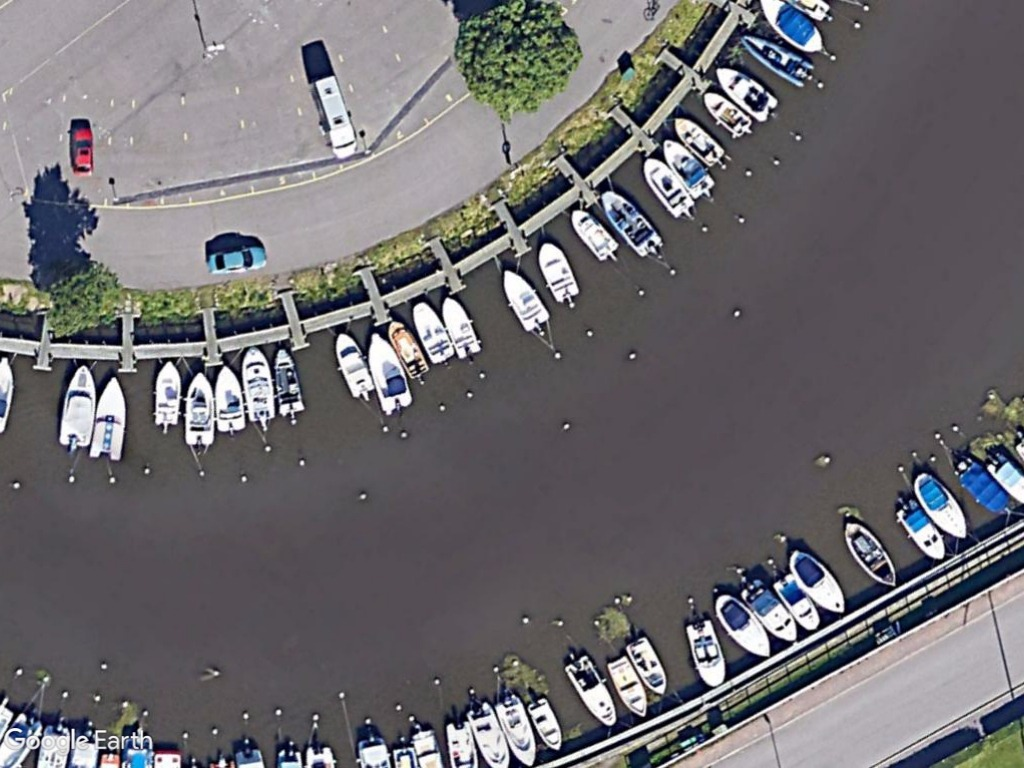boat: (594, 180, 665, 256), (737, 28, 817, 94), (560, 648, 620, 729), (910, 464, 972, 542), (784, 545, 849, 619), (710, 592, 776, 663), (51, 359, 100, 454), (360, 325, 412, 414), (82, 370, 131, 462), (840, 516, 899, 591), (736, 577, 801, 644), (710, 64, 780, 126), (635, 150, 693, 224), (495, 264, 553, 336), (950, 456, 1014, 521), (678, 612, 729, 692), (891, 495, 949, 562), (659, 132, 718, 197), (768, 569, 824, 636), (493, 691, 539, 768), (405, 293, 454, 364), (667, 112, 728, 168), (330, 326, 375, 399), (463, 700, 511, 768), (604, 652, 651, 721), (535, 238, 582, 306), (180, 370, 218, 454), (622, 633, 670, 699), (239, 343, 278, 423), (437, 291, 482, 360), (567, 205, 619, 263), (149, 356, 187, 435), (383, 315, 429, 379), (268, 342, 305, 420), (208, 363, 248, 435), (697, 90, 754, 139), (524, 692, 566, 757)
car: (202, 241, 272, 278), (67, 122, 97, 181)
van: (307, 72, 362, 162)
